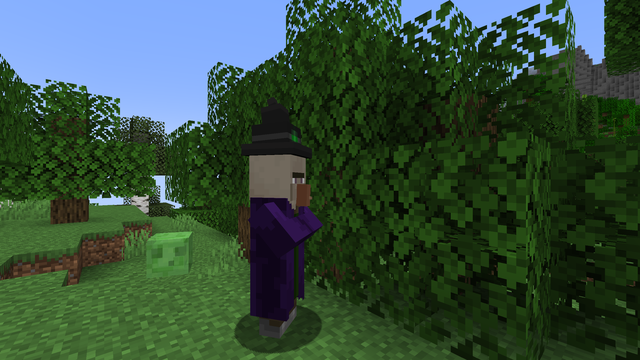slimes: (147, 229, 194, 279)
sorcieres: (242, 145, 316, 349)
